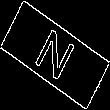N_SW: (30, 23, 80, 87)
